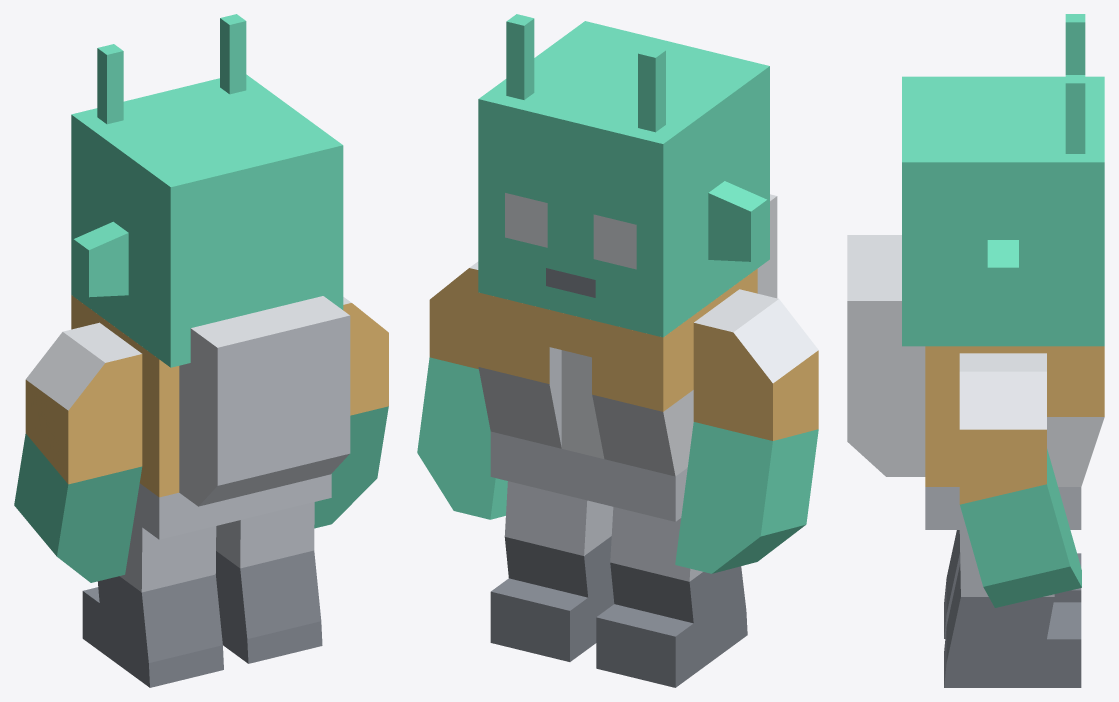
The model's file is alien.glb.
3 renders of one model, left to right at view 1: azimuth 30°, elevation 25°; view 2: azimuth 150°, elevation 25°; view 3: azimuth 270°, elevation 25°, orthographic. The views are drawn at different scales.
Parts seen in each view (by area): view 1: head, body, armLeft, legLeft, legRight, armRight; view 2: head, body, armLeft, legLeft, legRight, armRight; view 3: head, body, armRight, legRight, legLeft.
Part boxes in pixels (<box>): head: <box>71,14,343,367</box>; body: <box>71,295,350,539</box>; armLeft: <box>14,322,142,582</box>; legLeft: <box>82,521,223,687</box>; legRight: <box>215,502,322,663</box>; armRight: <box>314,297,388,528</box>; head: <box>478,14,769,337</box>; body: <box>478,194,777,521</box>; armLeft: <box>675,289,818,573</box>; legLeft: <box>596,507,747,687</box>; legRight: <box>490,481,614,661</box>; armRight: <box>417,261,507,519</box>; head: <box>902,14,1104,346</box>; body: <box>847,235,1104,529</box>; armRight: <box>959,353,1081,607</box>; legRight: <box>944,530,1081,687</box>; legLeft: <box>944,530,1081,638</box>.
Size of the model in its own units: 0.4832 by 0.8432 by 0.33.
